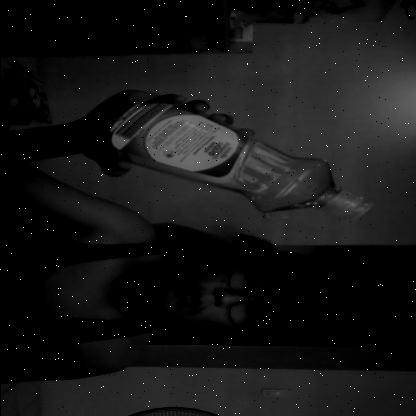Plastic Bottle: (70, 93, 373, 226)
